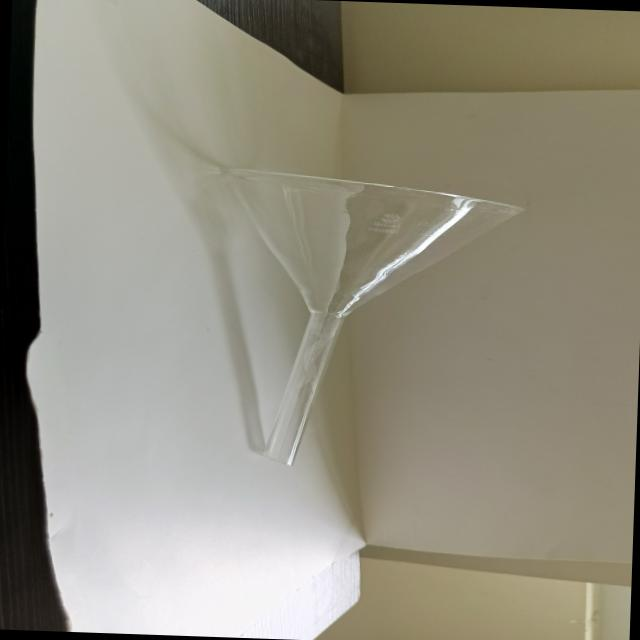funnel: (201, 148, 530, 478)
